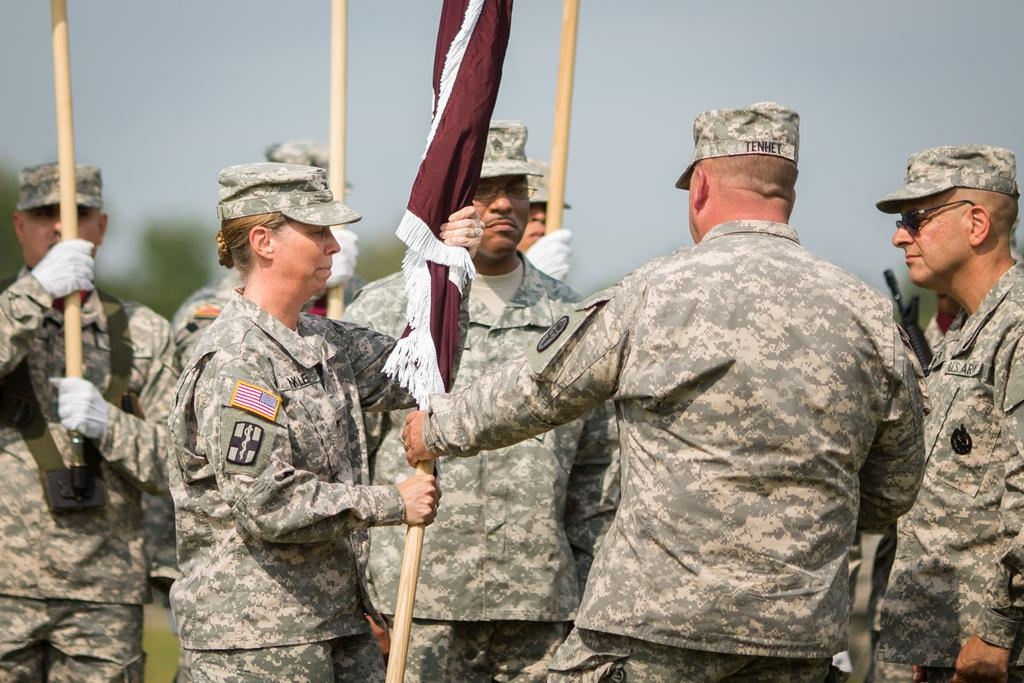Hat: (674, 102, 800, 193), (214, 158, 362, 224), (876, 146, 1018, 214), (262, 136, 351, 193), (16, 156, 104, 210), (478, 118, 542, 178), (528, 152, 570, 206)
